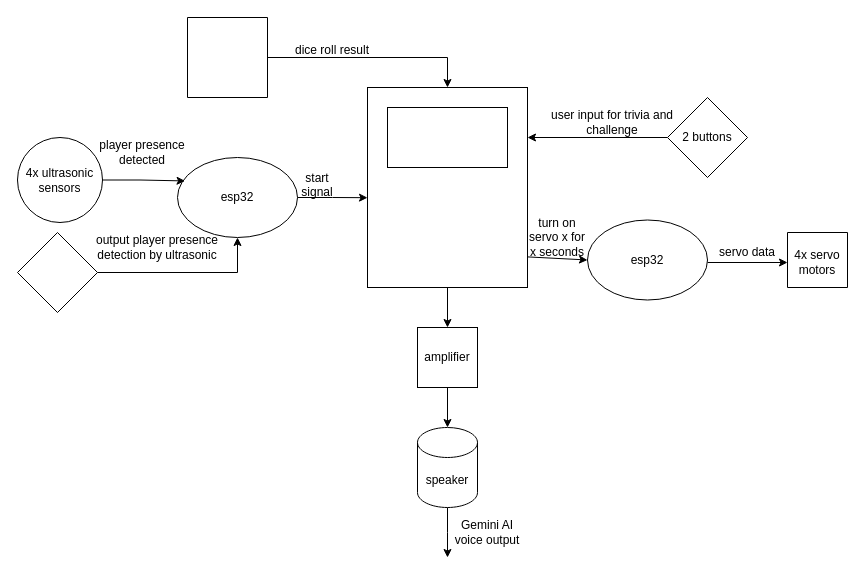
The diagram is 865 pixels wide and 583 high, and some of its shapes have lost their labels. Here are the shapes that lost their labels. From the top down, the centre of each, then its label:
At (x=227, y=57): "wireless ble die".
At (x=447, y=137): "Raspberry pi 3B+".
At (x=57, y=272): "4x LED".
